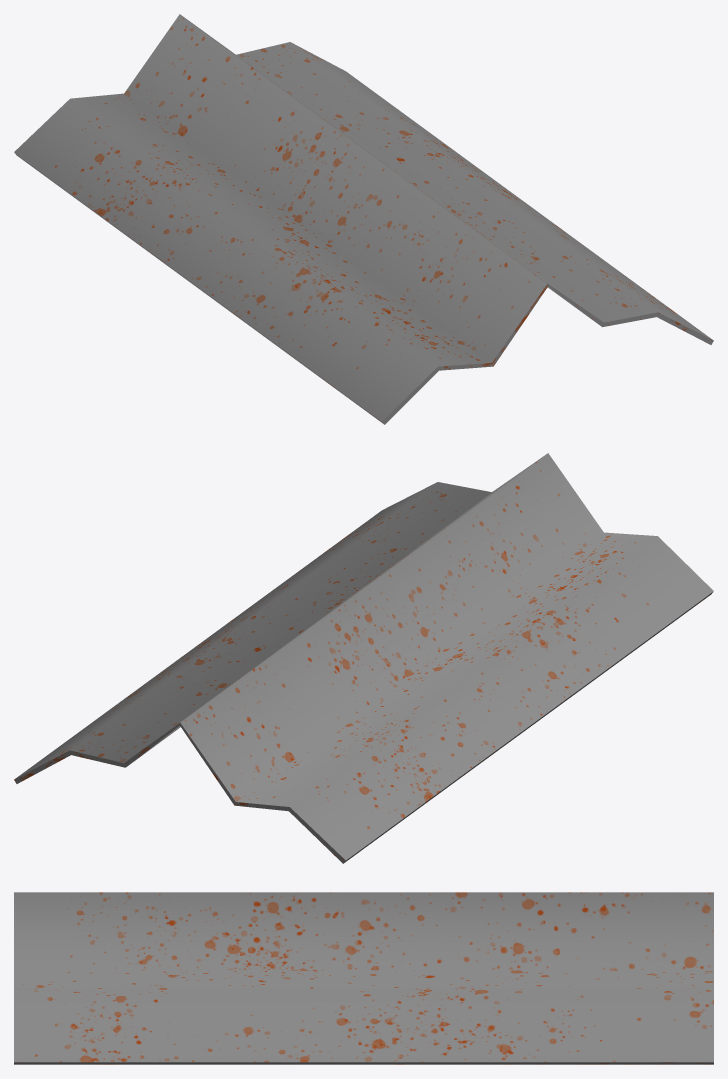
Rendered from bridgeRoof.fbx.
3 views of the same model, one above another, from view 1: azimuth 30°, elevation 25°; view 2: azimuth 150°, elevation 25°; view 3: azimuth 270°, elevation 25° (orthographic). The views are drawn at different scales.
Visible parts, largest first — view 1: RoadKillOut; view 2: RoadKillOut; view 3: RoadKillOut.
Boxes of the visible parts, x1,y1,x2,y2 form: RoadKillOut: [14, 14, 713, 424]; RoadKillOut: [14, 453, 713, 863]; RoadKillOut: [14, 892, 713, 1064].
Size of the model in its own units: 17.14 by 5.02 by 32.91.
